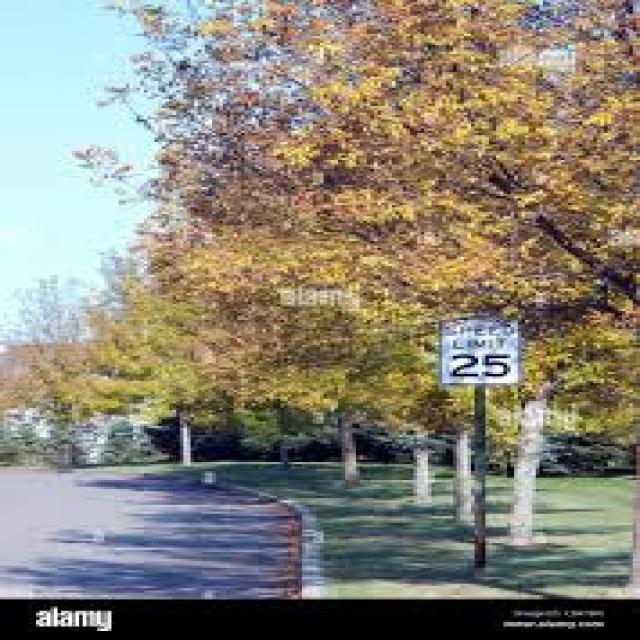speedLimit25: (439, 313, 518, 390)
